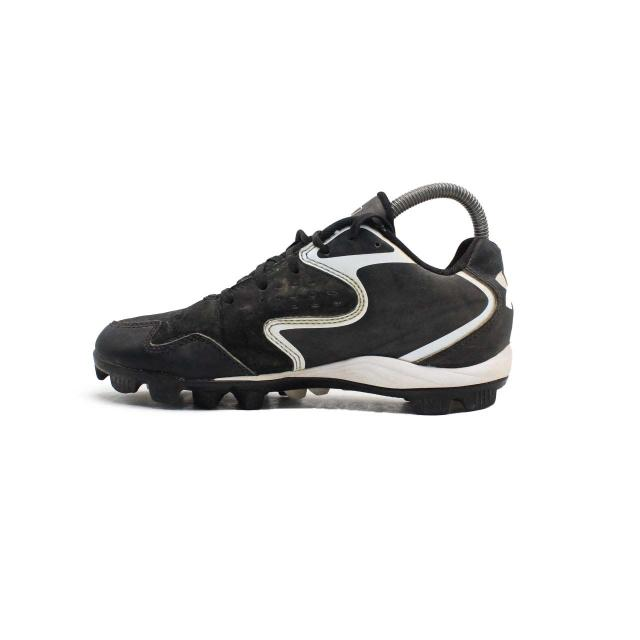heel: (462, 233, 515, 364)
midsole: (95, 345, 511, 409)
uppersole: (95, 192, 486, 373)
